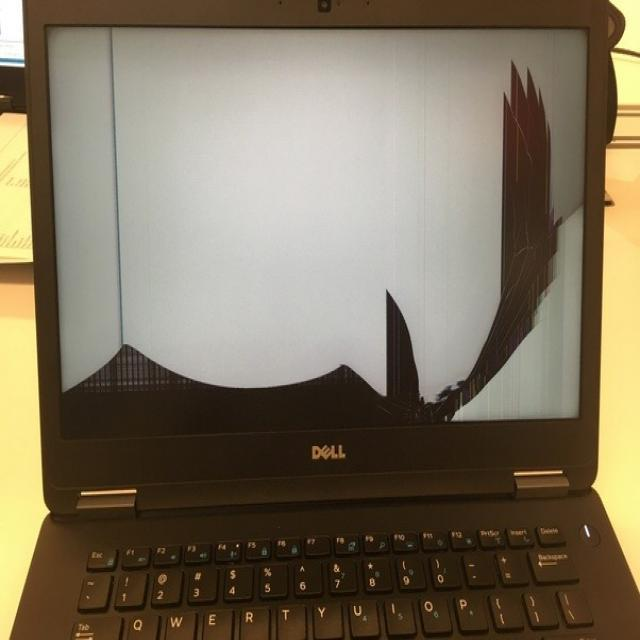Screen cracks: (53, 54, 585, 450)
